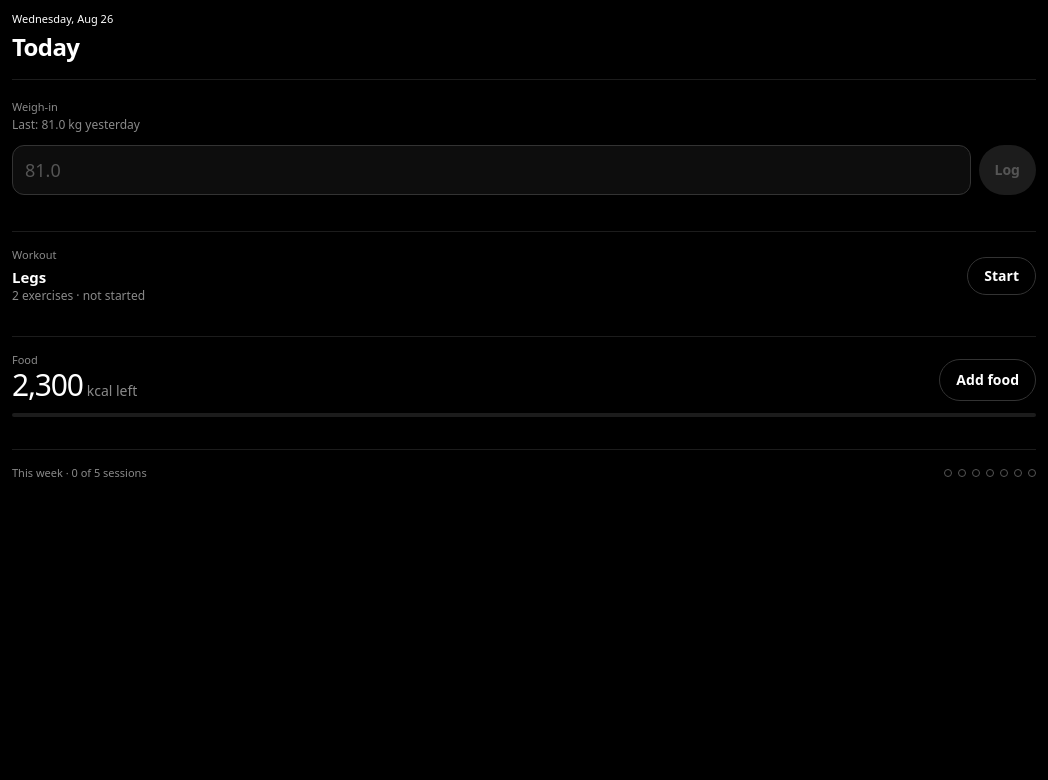
Test: HomePage, today at a glance › logs a weight from Home against today, and hands the top slot to the workout
Type "80.6" into the field named "Today's weight (kg)" at (491, 170), box x1=12 y1=145 x2=970 y2=195
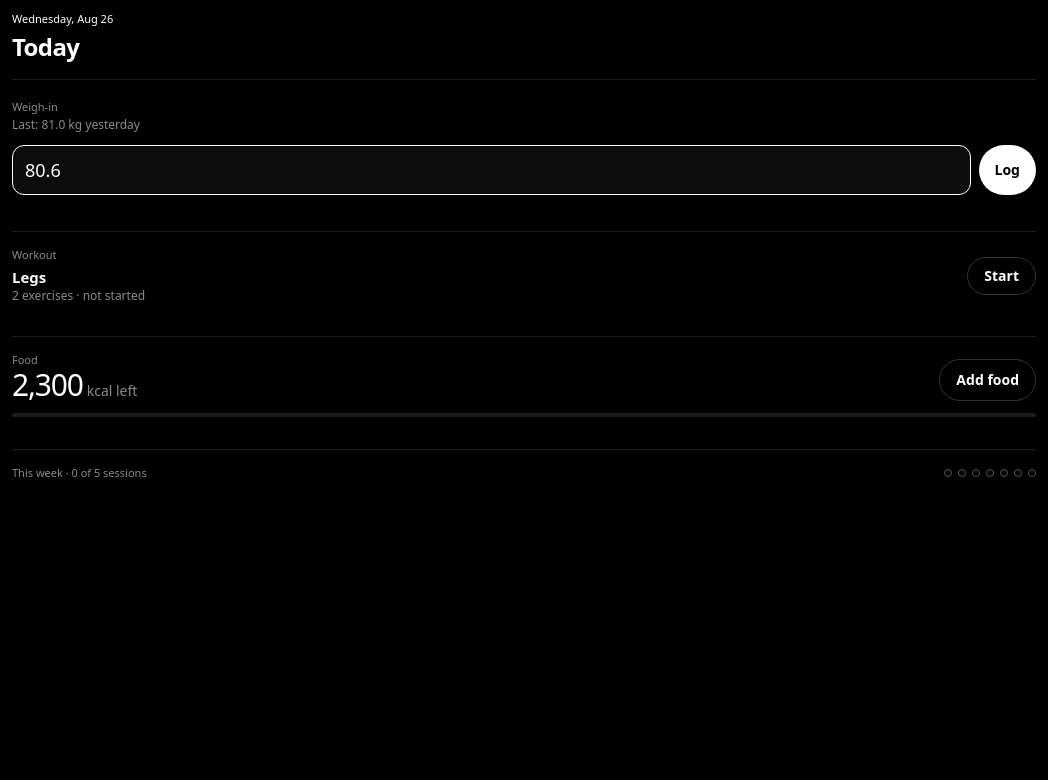
Click the button "Log" at (1007, 170), box x1=978 y1=145 x2=1036 y2=195
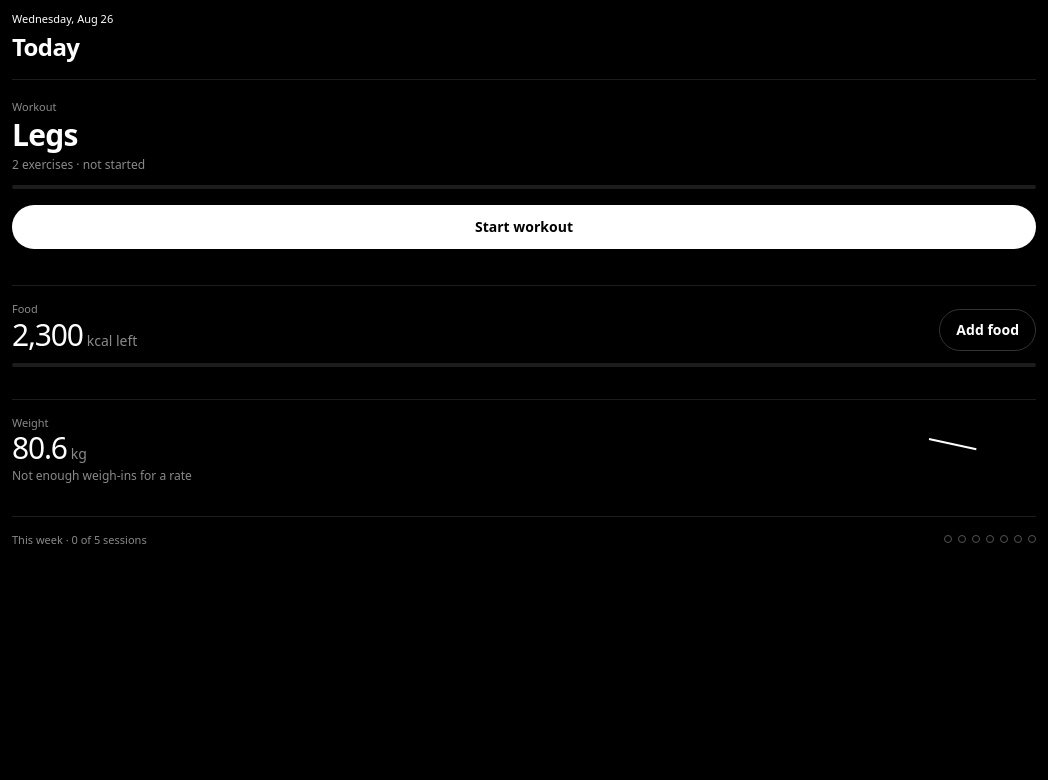
Check: the link "Start workout" is shown, box x1=12 y1=205 x2=1036 y2=249
